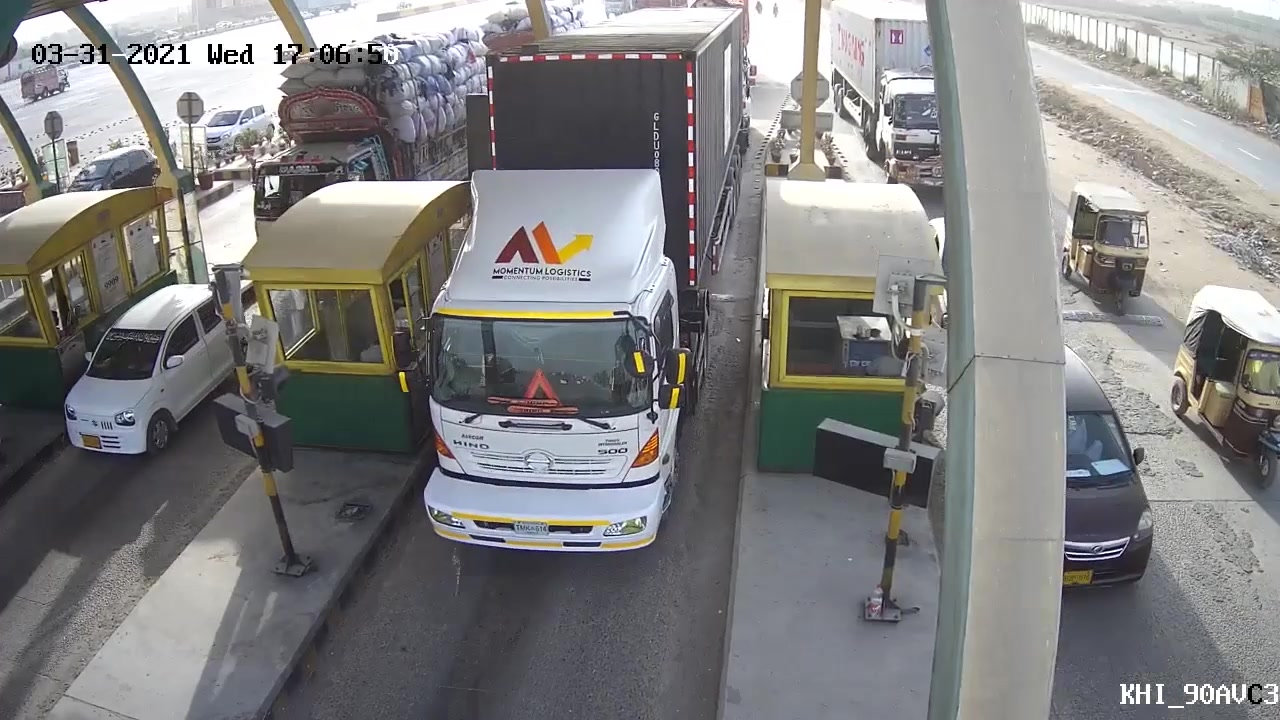F6: (392, 1, 755, 566)
